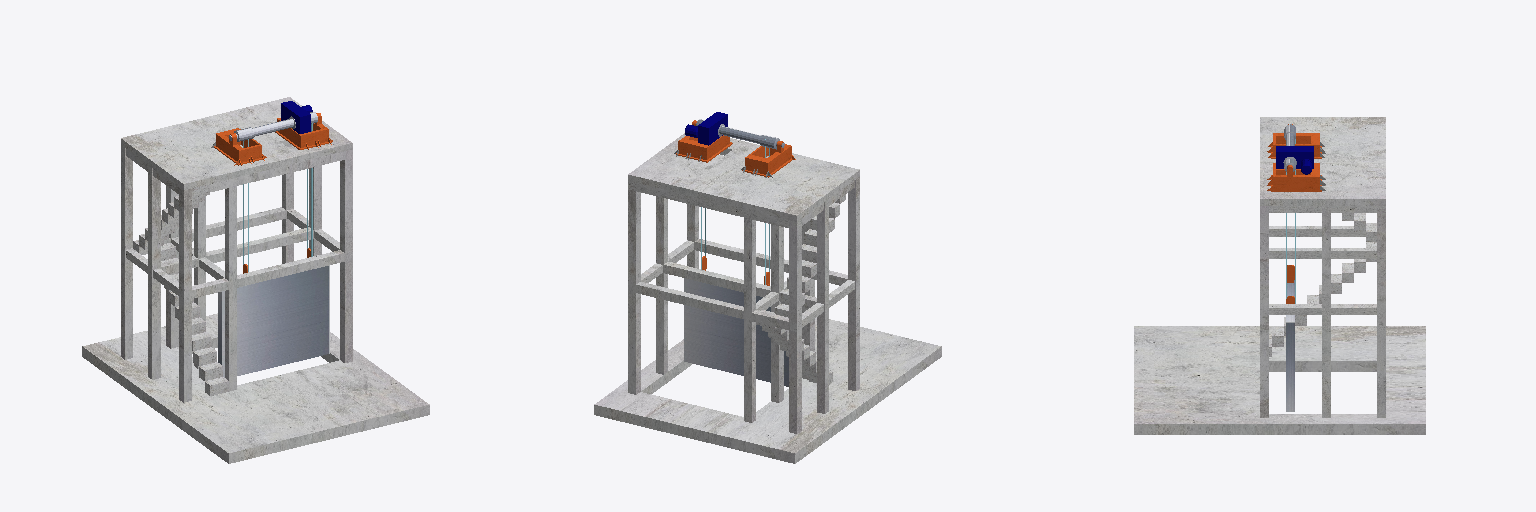
3 views of the same model, side by side, from view 1: azimuth 30°, elevation 25°; view 2: azimuth 150°, elevation 25°; view 3: azimuth 270°, elevation 25° (orthographic).
Visible parts, largest first — view 1: Rectangle003, Rectangle027, Box012, Rectangle021, Box010, Rectangle028, Box011, Line003, Line005, Cylinder001, Box016; view 2: Rectangle003, Rectangle027, Rectangle021, Box012, Rectangle028, Box011, Line003, Box010, Line005, Cylinder001, Box016; view 3: Rectangle027, Rectangle021, Rectangle003, Rectangle028, Box010, Line005, Box012, Rectangle019, Line003, Box016, Box011.
Boxes of the visible parts, x1,y1,x2,y2 form: Rectangle003: [121, 145, 352, 402]; Rectangle027: [82, 147, 429, 463]; Box012: [218, 265, 329, 377]; Rectangle021: [121, 97, 352, 189]; Box010: [161, 243, 228, 395]; Rectangle028: [126, 209, 339, 295]; Box011: [133, 184, 209, 254]; Line003: [214, 128, 266, 165]; Line005: [275, 118, 332, 149]; Cylinder001: [229, 112, 317, 141]; Box016: [281, 101, 310, 133]; Rectangle003: [628, 153, 859, 433]; Rectangle027: [594, 181, 941, 463]; Rectangle021: [628, 133, 859, 221]; Box012: [684, 278, 788, 386]; Rectangle028: [641, 240, 854, 331]; Box011: [775, 194, 845, 317]; Line003: [742, 144, 795, 177]; Box010: [756, 310, 832, 384]; Line005: [676, 135, 732, 162]; Cylinder001: [696, 119, 784, 149]; Box016: [698, 112, 727, 145]; Rectangle027: [1134, 206, 1425, 434]; Rectangle021: [1260, 117, 1385, 205]; Rectangle003: [1260, 206, 1385, 417]; Rectangle028: [1269, 226, 1376, 314]; Box010: [1269, 242, 1376, 356]; Line005: [1267, 163, 1321, 191]; Box012: [1286, 281, 1294, 411]; Rectangle019: [1269, 206, 1376, 212]; Line003: [1267, 133, 1321, 158]; Box016: [1276, 146, 1313, 168]; Box011: [1342, 213, 1376, 241].
Size of the model in its own units: 3.96 by 4.9 by 5.
Materials: 7 (3 with a texture image).